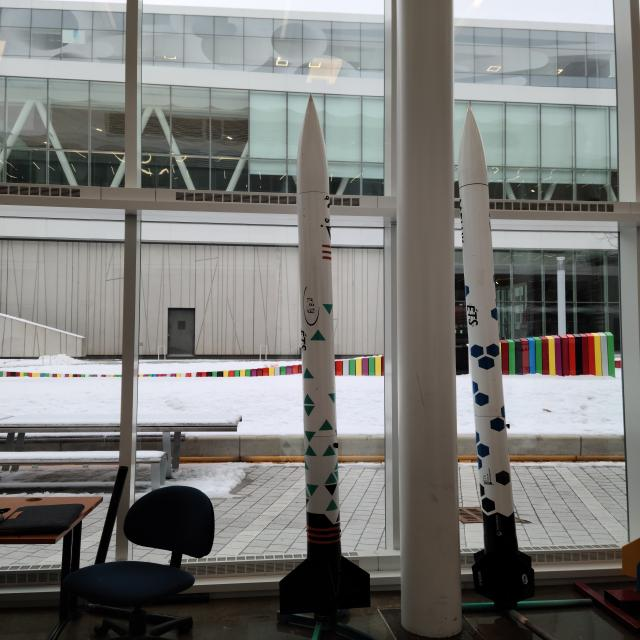Rocket: (279, 94, 371, 622), (458, 104, 535, 610)
